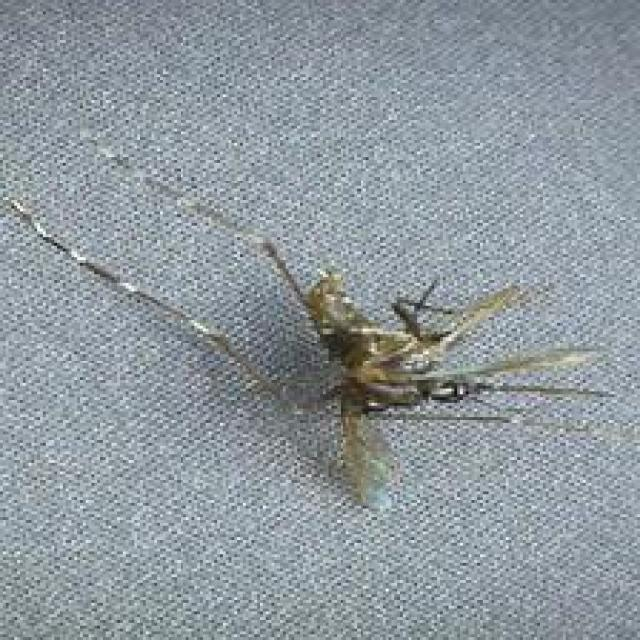Aedes albopictus: (7, 137, 616, 514)
